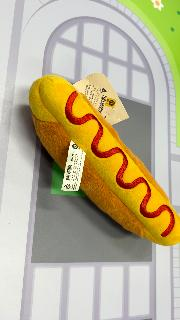hotdog: (28, 74, 180, 246)
